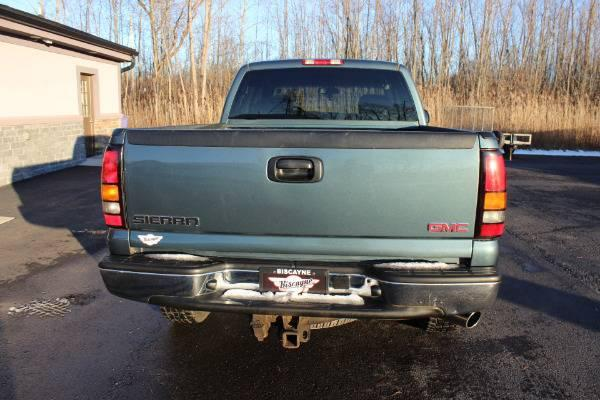Left_Taillight: (102, 144, 127, 227)
Rear_Bumper: (99, 259, 499, 324)
Rear_Windshield: (222, 58, 424, 128)
Right_Taillight: (475, 150, 506, 237)
Tailgate: (109, 128, 500, 267)
